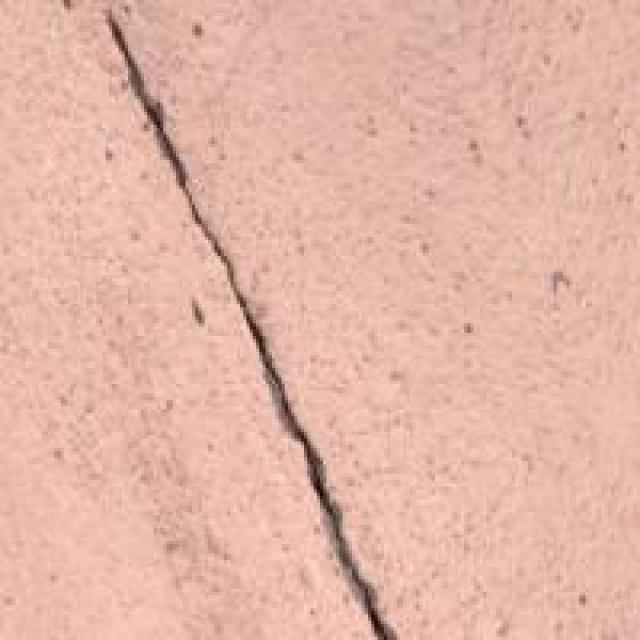Crack: (96, 16, 422, 640)
